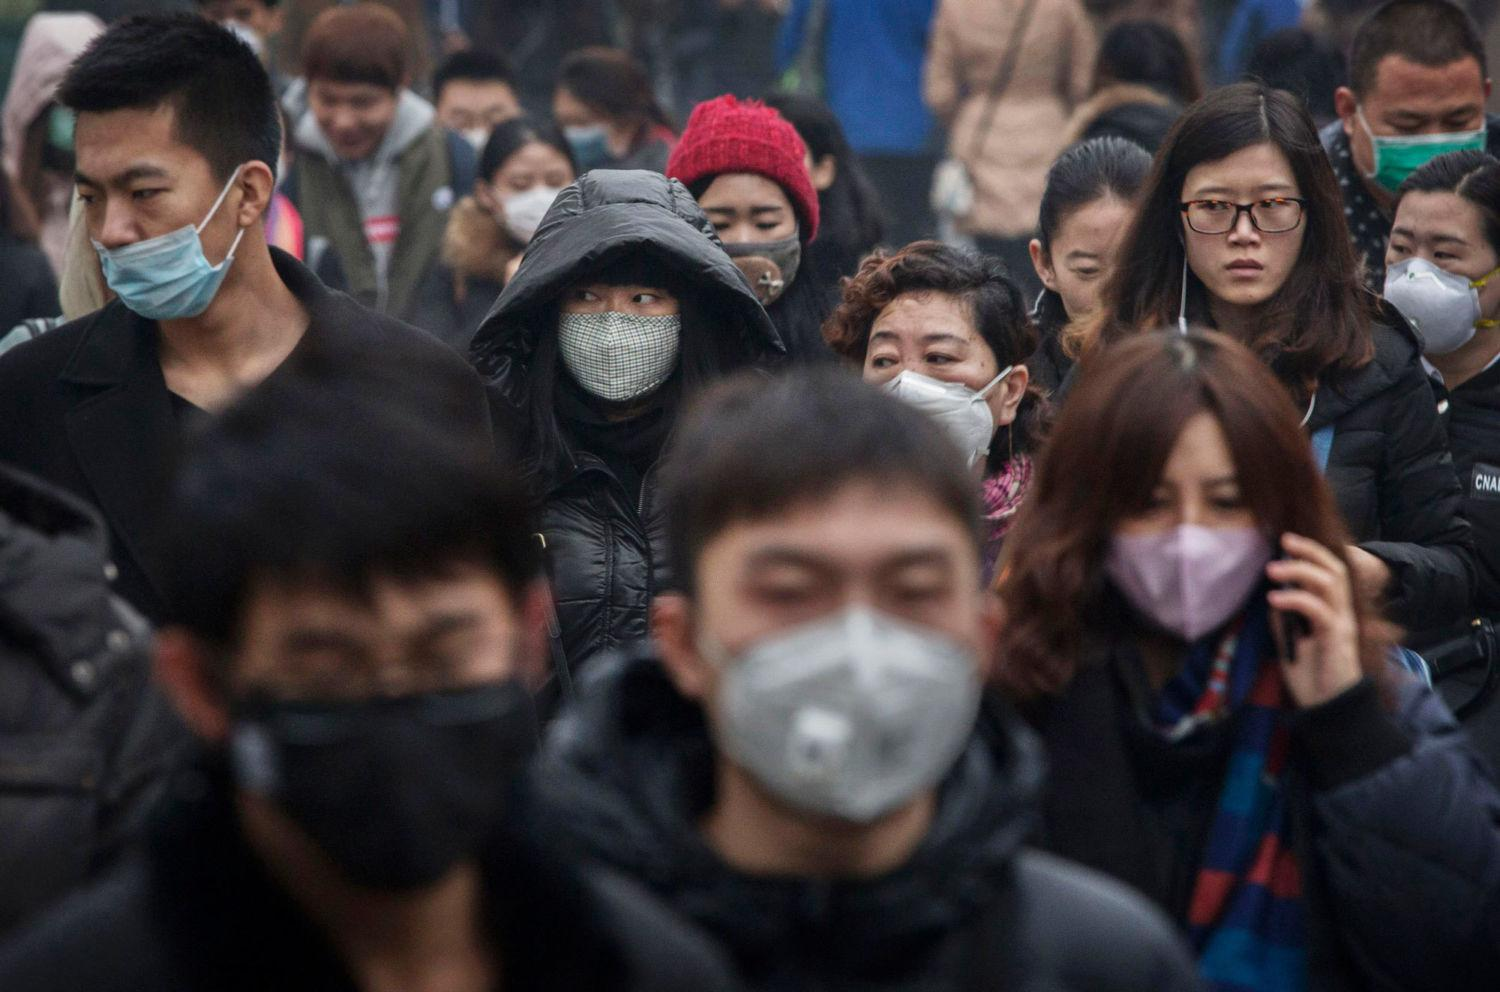mask: (229, 592, 541, 895), (694, 530, 986, 831), (1099, 459, 1269, 642), (856, 316, 1001, 477), (1374, 215, 1496, 356), (559, 280, 681, 405), (1351, 85, 1486, 195), (696, 192, 801, 304), (499, 162, 566, 250)
none: (1185, 175, 1308, 302), (304, 77, 404, 161)
poor: (76, 147, 244, 325)
